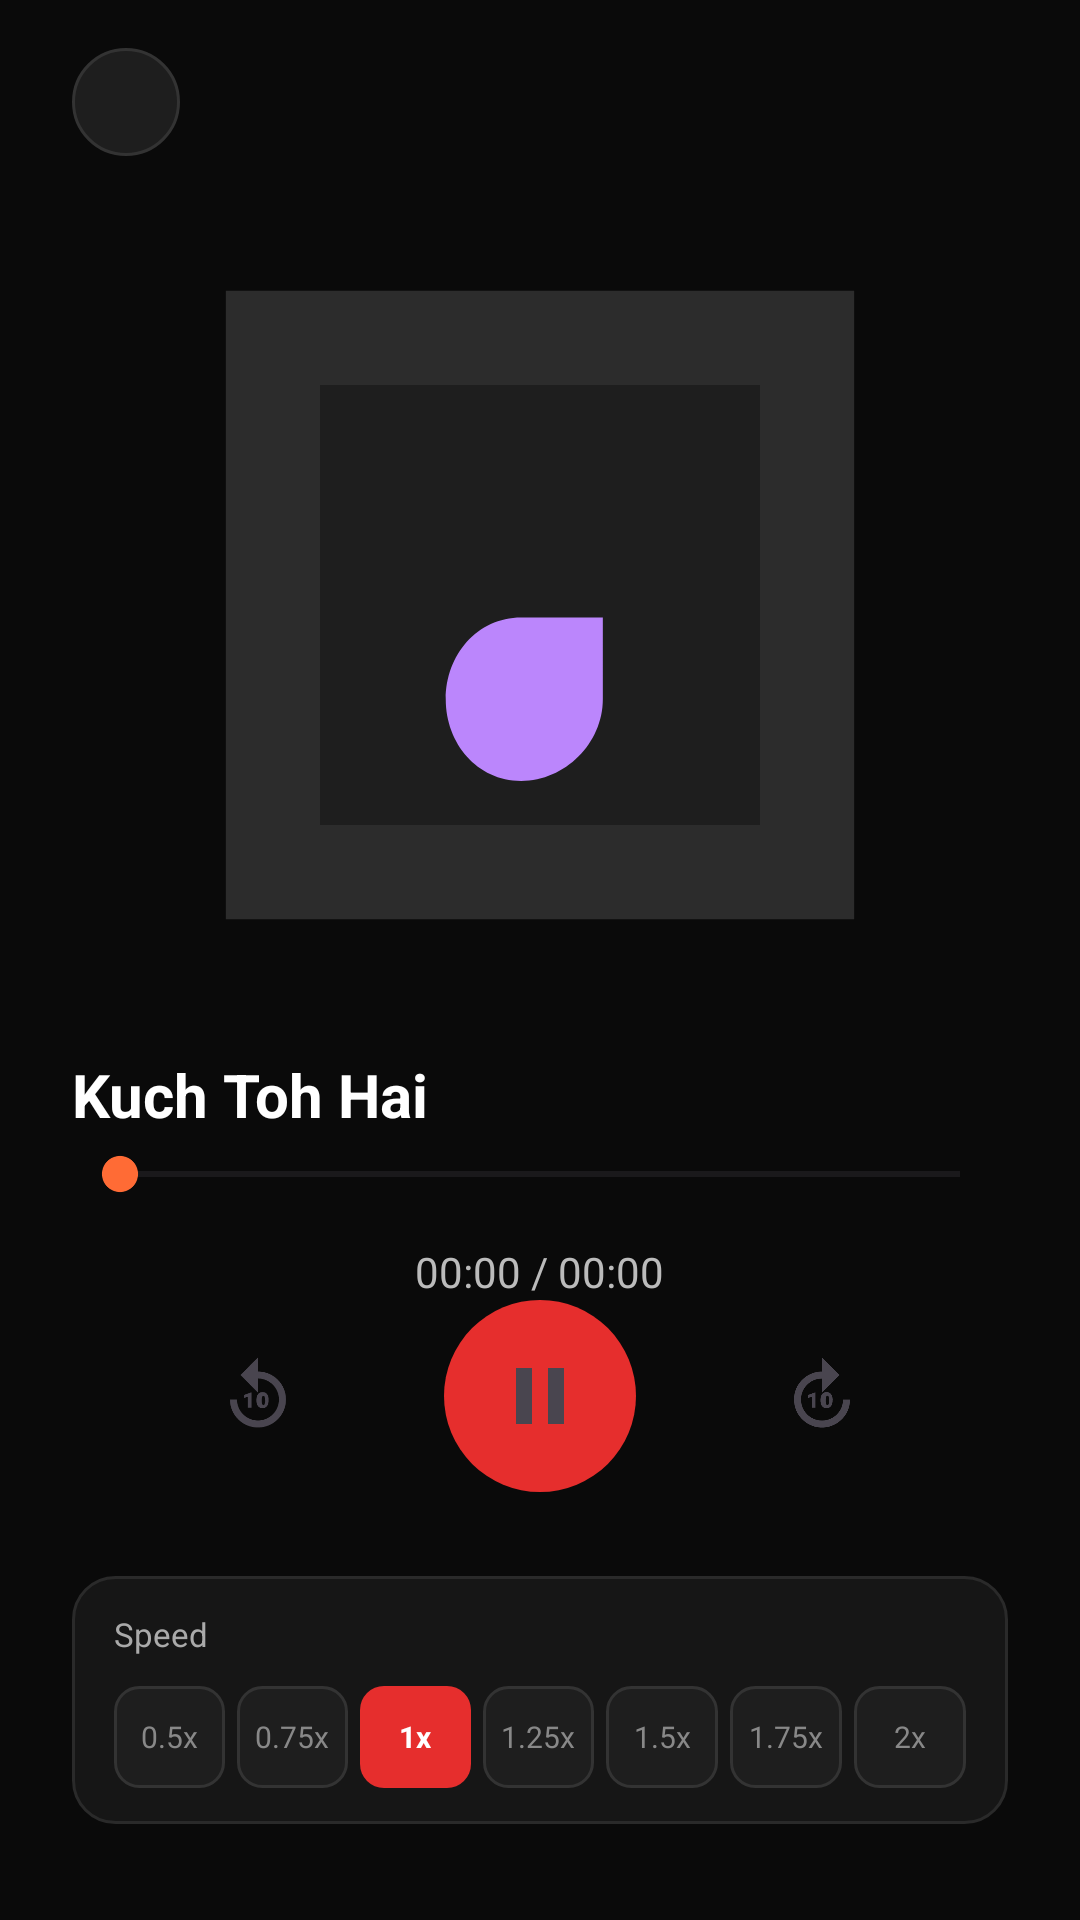

Where to tap for icons on this 1080w x 1920h app screen, as (x,y):
Forward 10 seconds: (822,1393)
Play / Pause: (540,1396)
Rewind 10 seconds: (258,1393)
